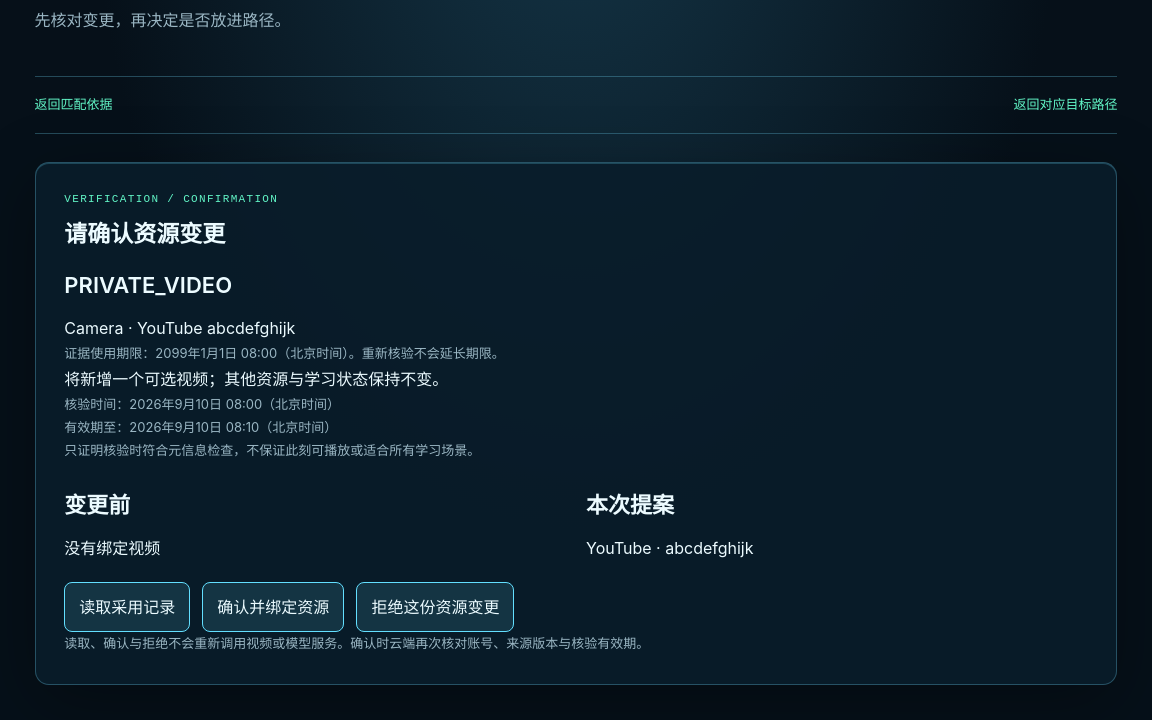
Test: reviewing a prepared proposal does not apply it; explicit confirmation updates the receipt and path link
(page scrolled)
Click the button "确认并绑定资源" at point(273, 607), box [202,582,344,632]
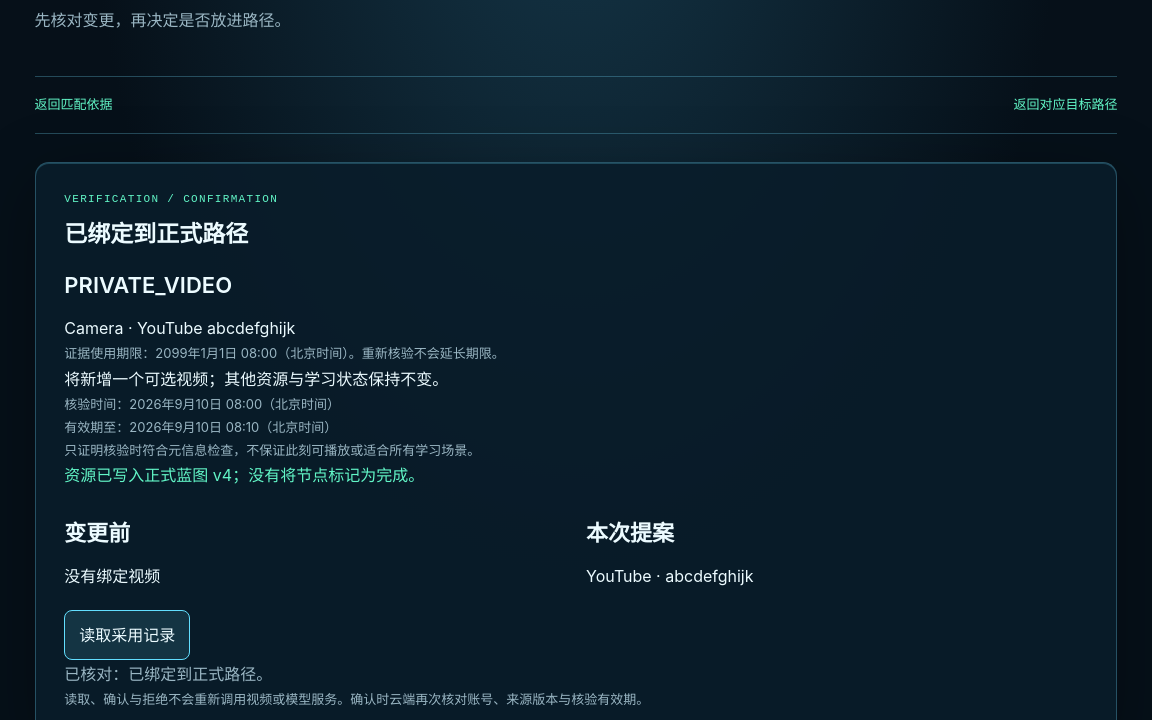
Check: the text "已绑定到正式路径" is shown, box [64,220,248,248]
